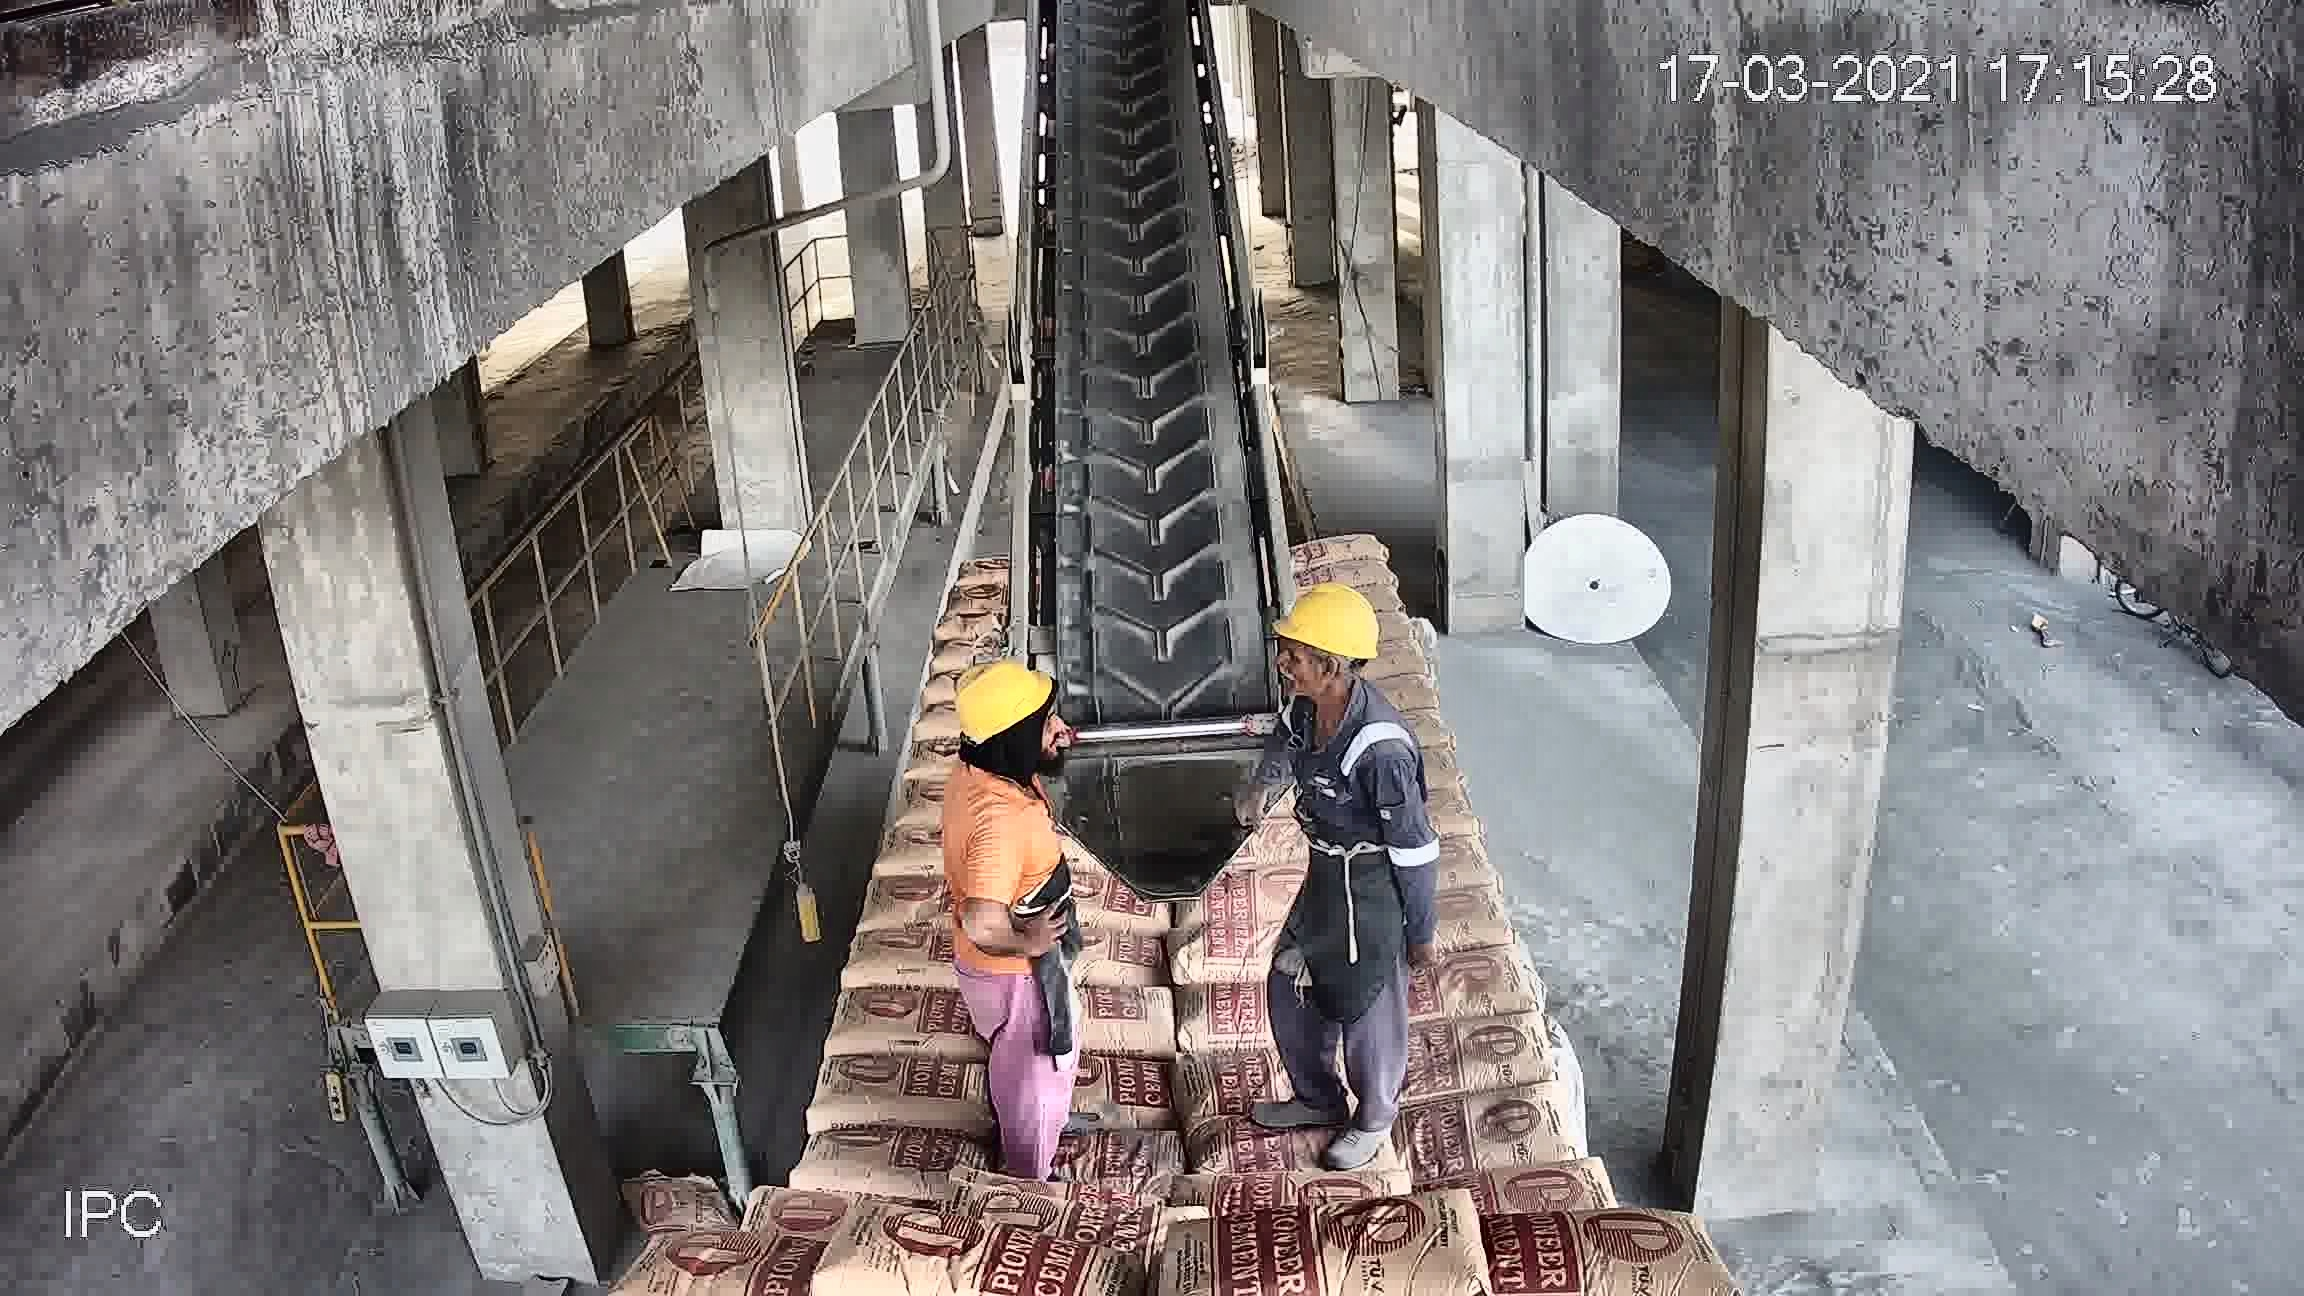bag_h: (818, 1226, 1105, 1296), (1407, 1074, 1601, 1176), (1385, 1014, 1575, 1112), (1195, 1108, 1396, 1188), (809, 1051, 995, 1135), (639, 1225, 850, 1294), (790, 1127, 972, 1201), (973, 1128, 1165, 1196), (1389, 956, 1546, 1032), (1059, 989, 1223, 1060), (1060, 1052, 1204, 1125), (832, 991, 964, 1062), (1051, 924, 1184, 994), (1199, 861, 1293, 935), (843, 930, 945, 997), (1435, 888, 1519, 951), (1177, 934, 1280, 984), (855, 873, 934, 927), (1294, 525, 1389, 570), (1294, 562, 1404, 587)
belt: (1008, 63, 1283, 783)
